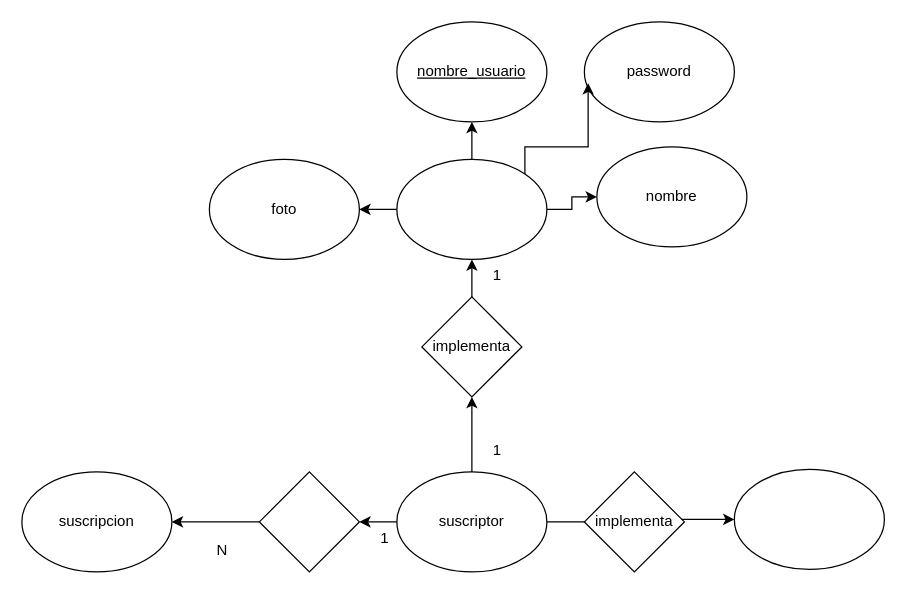
Some shapes in this 906 by 594 pixel diagram are drawn without their labels. Each missing label, with the centre of its shape:
cartera_monetaria: (808,518)
realiza: (308,521)
usuario: (471,208)
